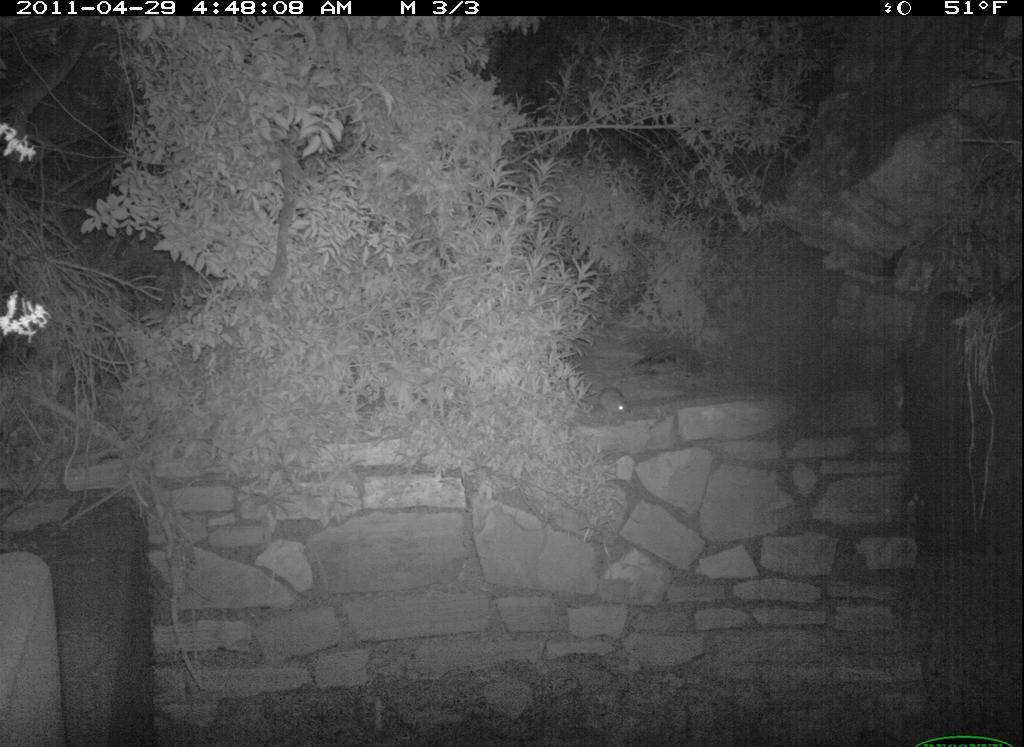rodent: (589, 379, 642, 428)
